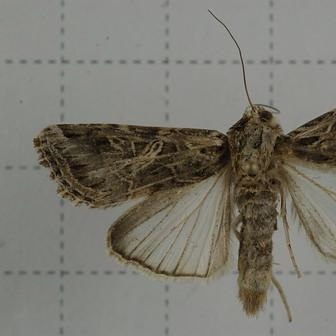Spodoptera litura: (32, 9, 336, 323)
